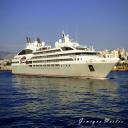cruises: (12, 29, 122, 81)
